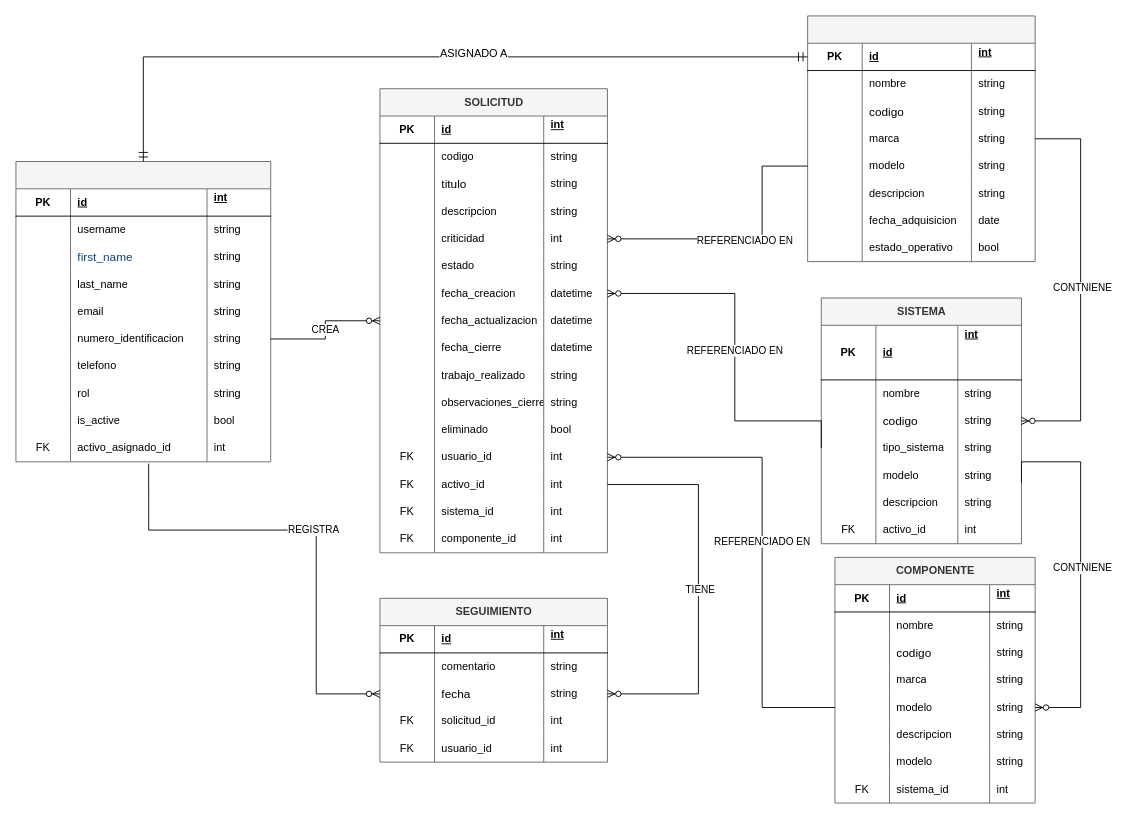
This 1127x819 diagram has some shape labels left out. Each missing label, with the box of its shape:
ACTIVO: (807, 15, 1035, 262)
USUARIO: (15, 161, 271, 462)
